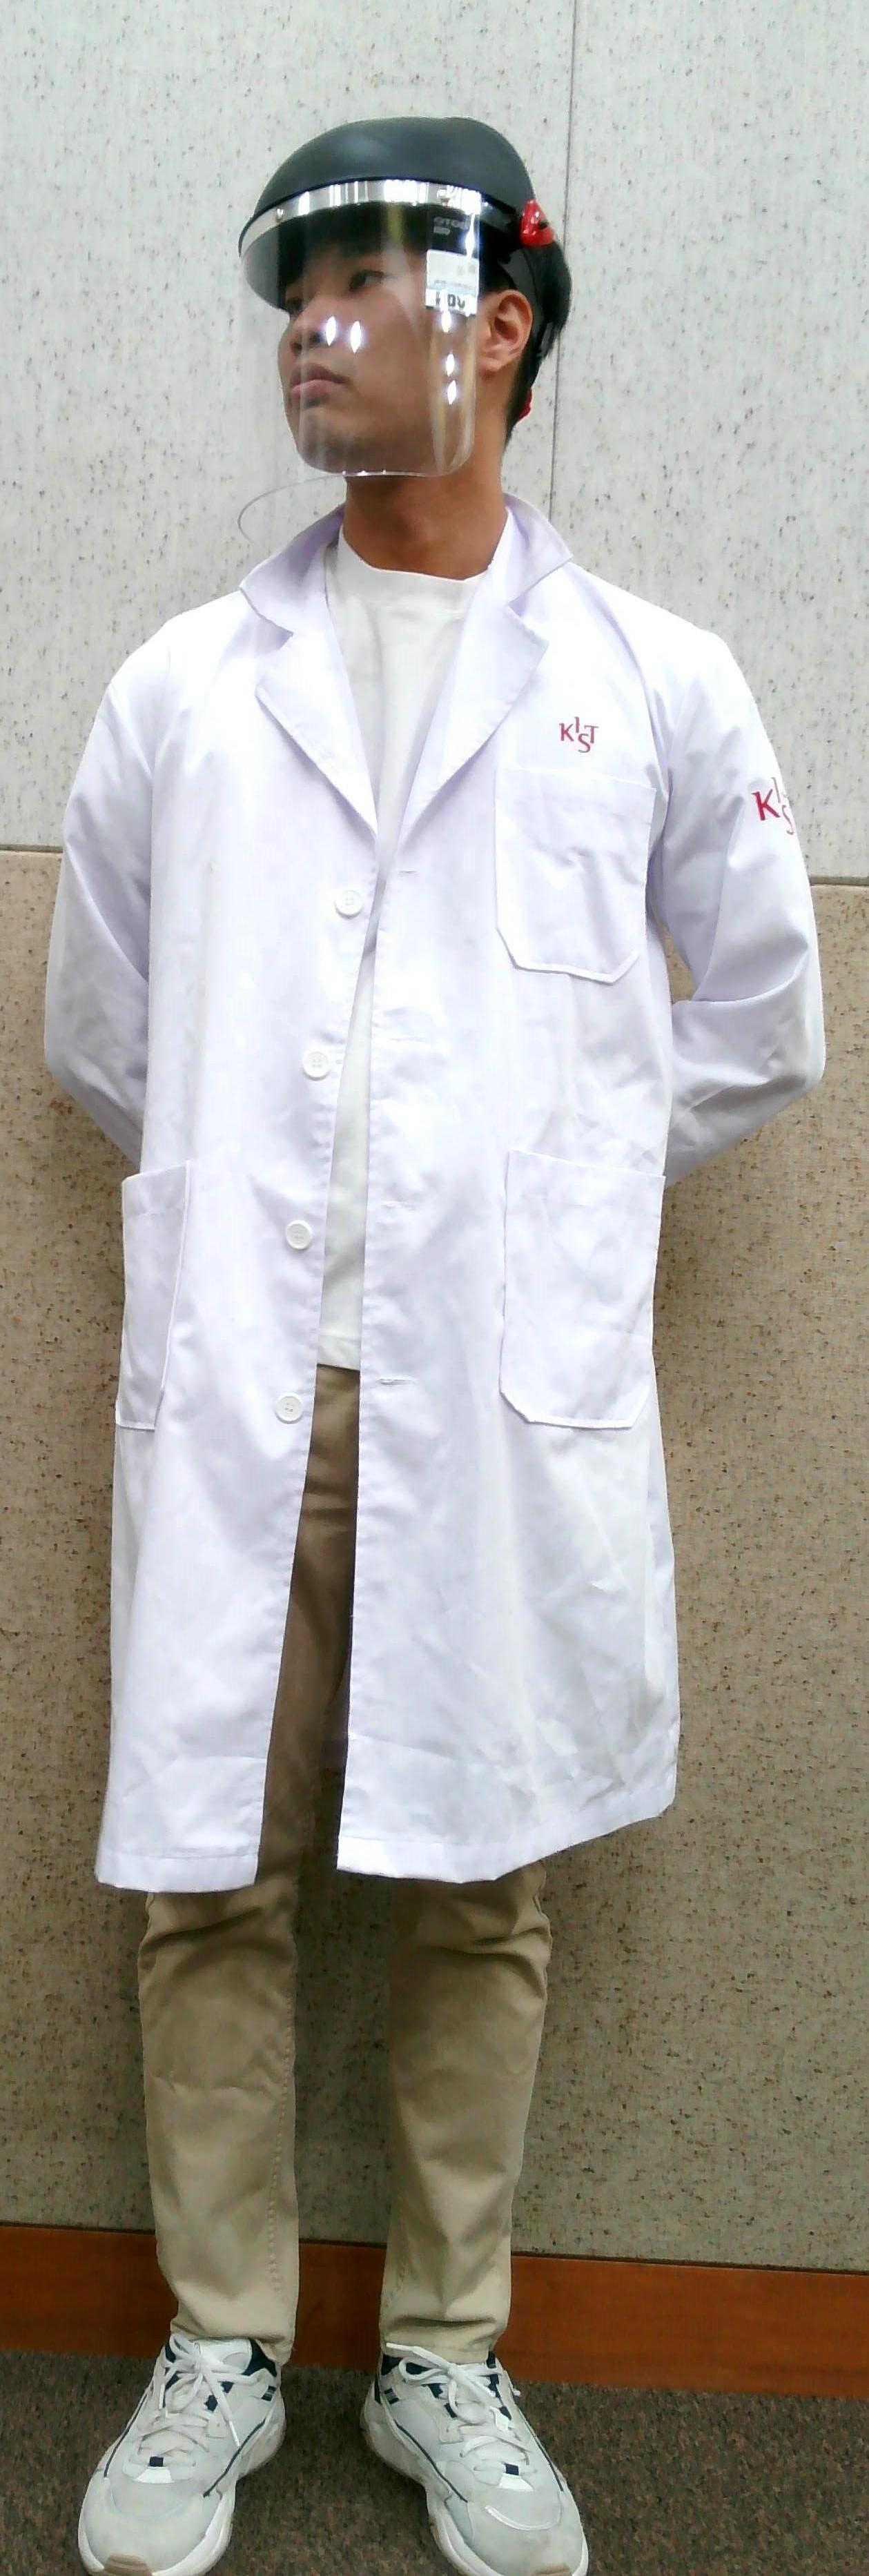lab_coat: (100, 588, 678, 1860)
